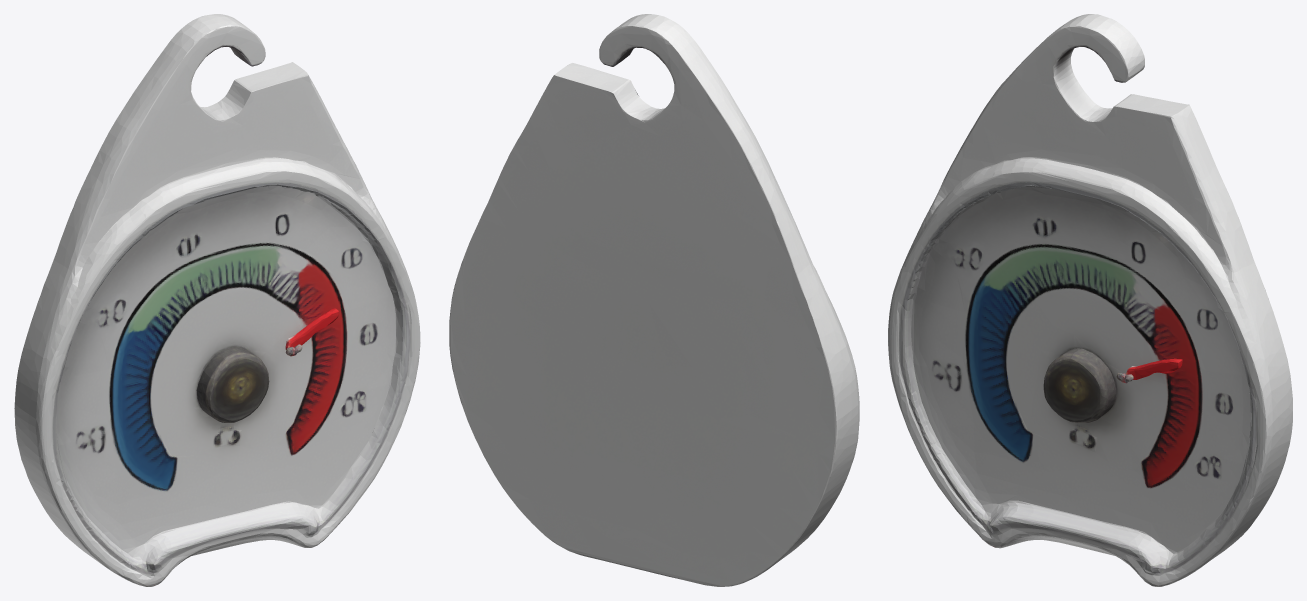
Rendered from fridgethermometer.glb.
3 renders of one model, left to right at view 1: azimuth 30°, elevation 25°; view 2: azimuth 150°, elevation 25°; view 3: azimuth 330°, elevation 25°, orthographic.
Parts seen in each view (by area): view 1: world; view 2: world; view 3: world.
Part boxes in pixels (box(x1,y1,x2,y2)): world: box(14, 14, 420, 586); world: box(449, 14, 859, 586); world: box(888, 14, 1292, 586).
Bounding box in the file's own units: 0.7461 × 0.9996 × 0.1166.
1 material, 1 textured.
